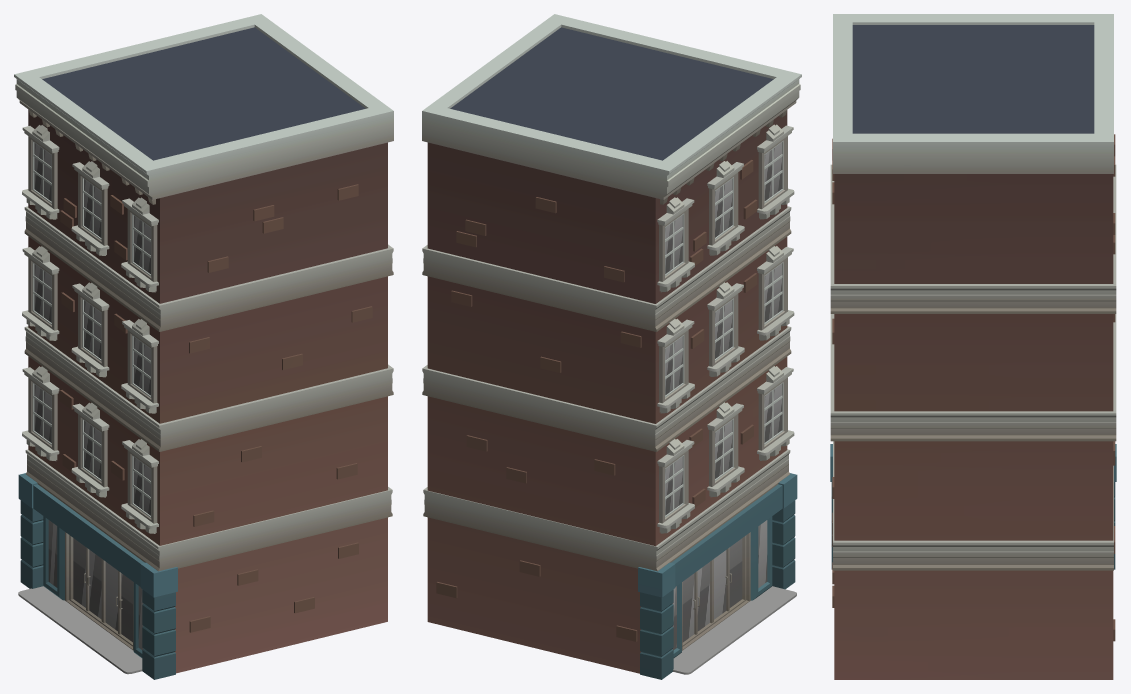
The model's file is Building_21_2_H.fbx.
The picture shows the model from 3 angles, left to right: view 1: azimuth 30°, elevation 25°; view 2: azimuth 150°, elevation 25°; view 3: azimuth 270°, elevation 25°; orthographic projection. The views are drawn at different scales.
Parts seen in each view (by area): view 1: Building_21_2_H; view 2: Building_21_2_H; view 3: Building_21_2_H.
Boxes of the visible parts, bbox=[...] form: Building_21_2_H: bbox=[14, 14, 393, 679]; Building_21_2_H: bbox=[422, 14, 801, 679]; Building_21_2_H: bbox=[830, 14, 1116, 679].
Size of the model in its own units: 779 by 1485 by 713.
